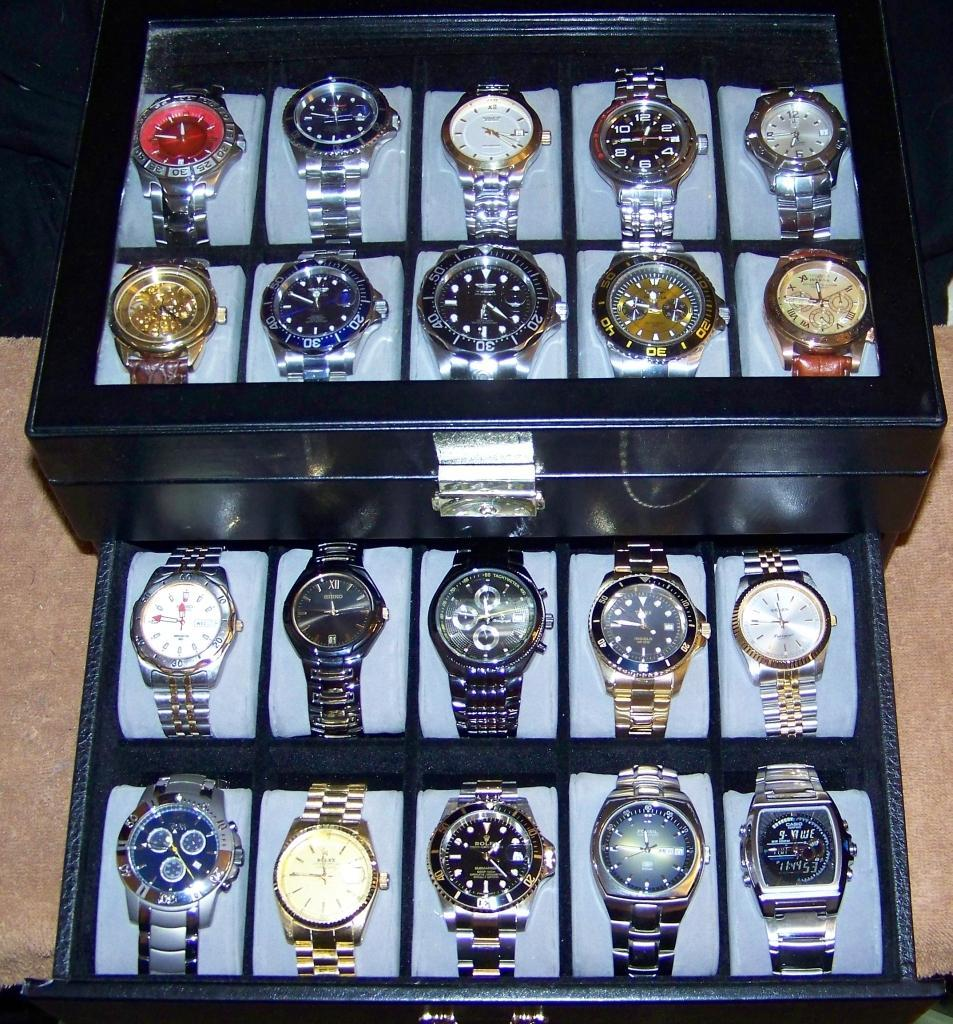watch: (741, 760, 855, 974)
